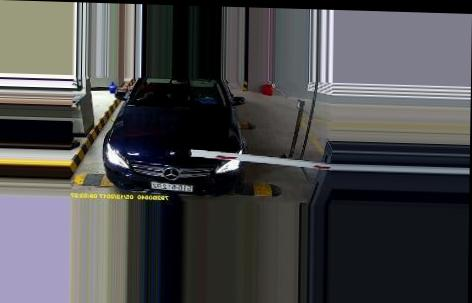License_Plate: (148, 180, 198, 195)
